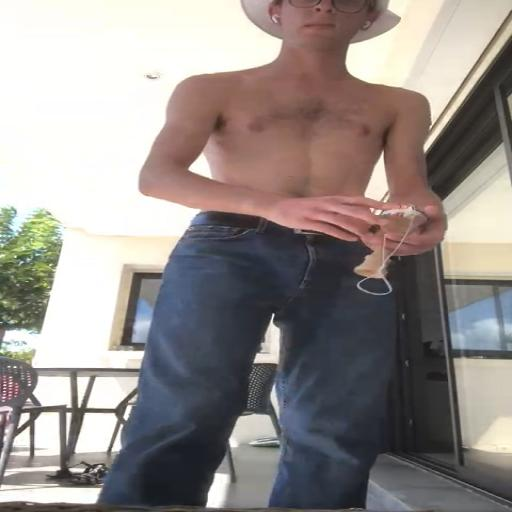kendama_ball: (381, 203, 428, 228)
